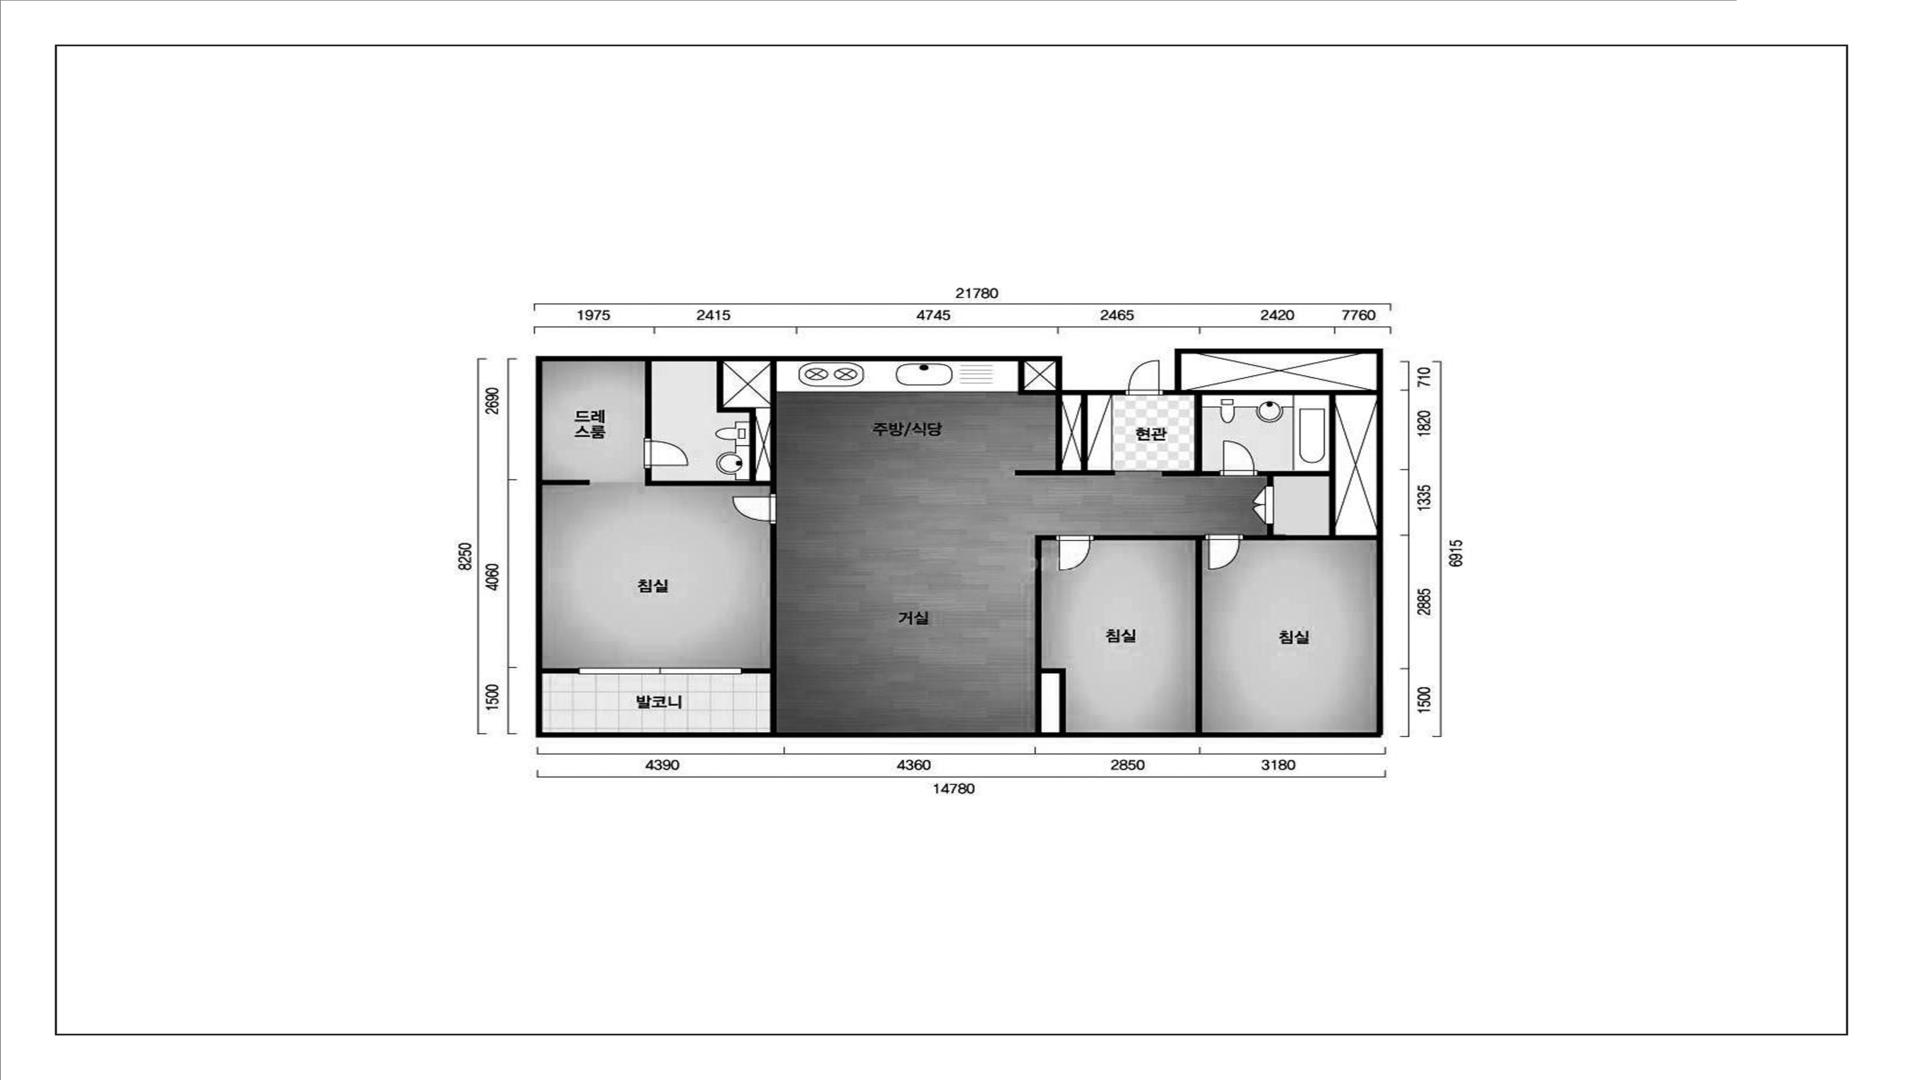background: (0, 0, 1920, 1080)
door: (731, 493, 777, 525), (1055, 534, 1095, 571), (1220, 439, 1258, 476), (1125, 359, 1163, 396), (1205, 534, 1244, 570), (644, 438, 688, 468), (1253, 487, 1274, 525)
wall: (535, 348, 1383, 737), (1162, 390, 1377, 541), (1095, 534, 1205, 732), (645, 361, 777, 495), (1015, 396, 1114, 476), (742, 524, 777, 733), (1035, 534, 1065, 732), (1018, 361, 1056, 396), (645, 361, 651, 438), (542, 480, 589, 485), (542, 669, 579, 674)
window: (579, 667, 742, 674)
